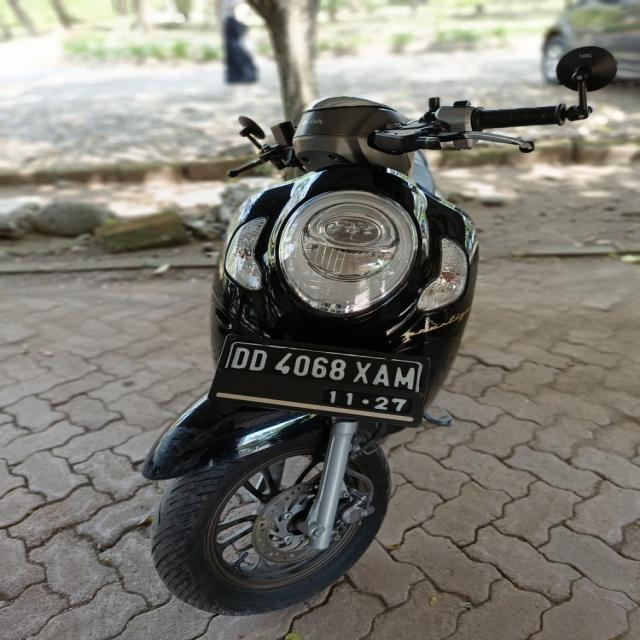plates: (222, 344, 429, 416)
